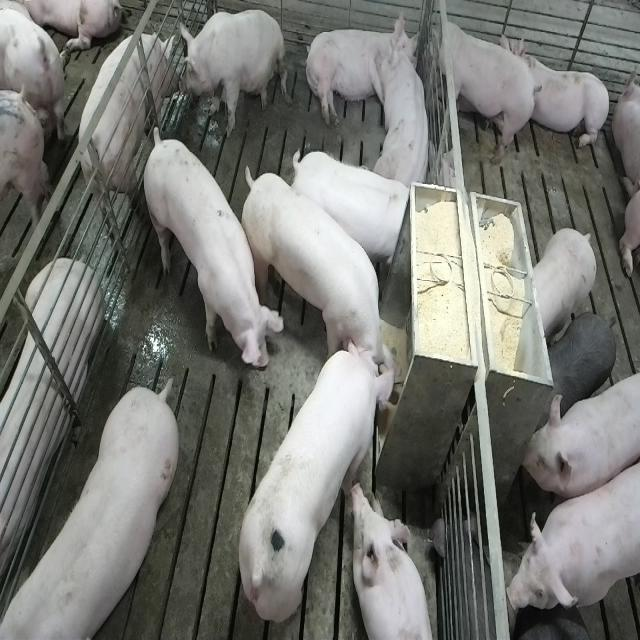Feeding: (236, 338, 400, 624), (236, 157, 397, 382)
Lateral_lying: (302, 10, 418, 130)
Sitting: (180, 8, 285, 138)
Standing: (0, 382, 176, 640), (140, 121, 277, 371), (504, 448, 638, 614), (76, 31, 177, 235), (431, 10, 539, 165), (289, 146, 413, 280), (521, 366, 637, 499), (546, 309, 616, 422), (531, 227, 597, 342), (508, 607, 614, 640)
Sternal_lying: (0, 260, 100, 614), (350, 481, 438, 640), (521, 39, 612, 154), (376, 18, 434, 192)
